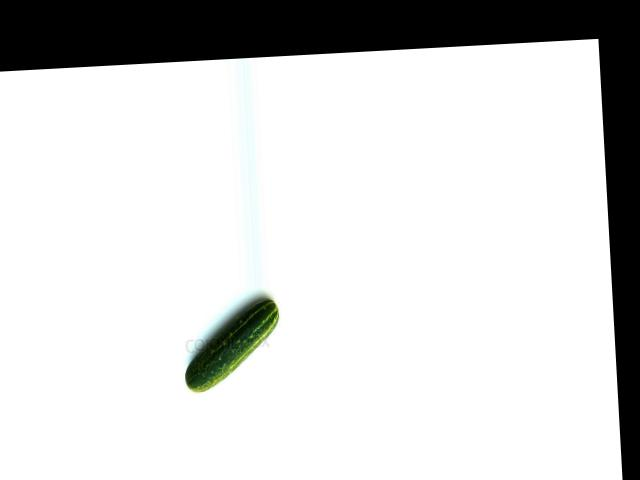cucumber: (181, 298, 284, 393)
